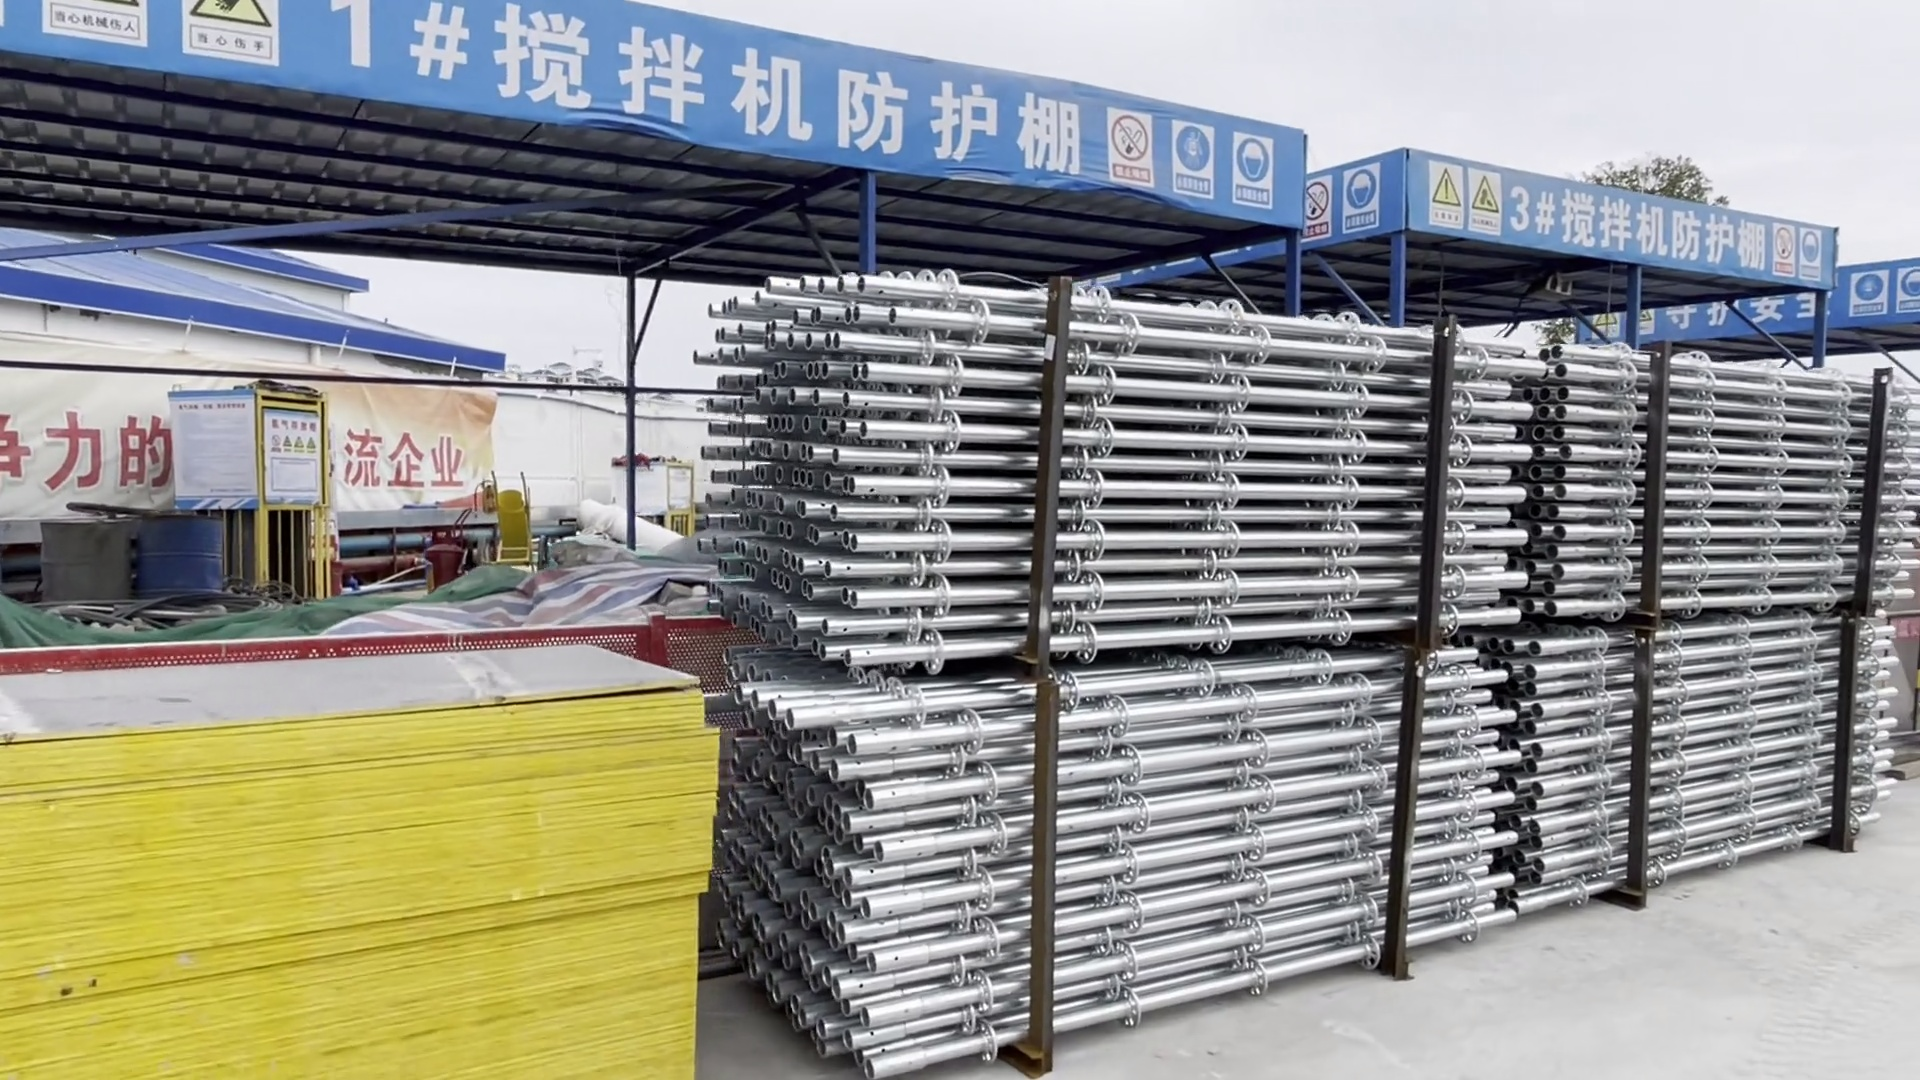board: (1, 644, 699, 1079)
scaffold: (705, 646, 1920, 1017), (682, 277, 1920, 622)
slogan: (1565, 257, 1912, 332), (1097, 135, 1305, 195), (1391, 146, 1495, 236), (1287, 165, 1391, 237), (1756, 222, 1826, 270)
